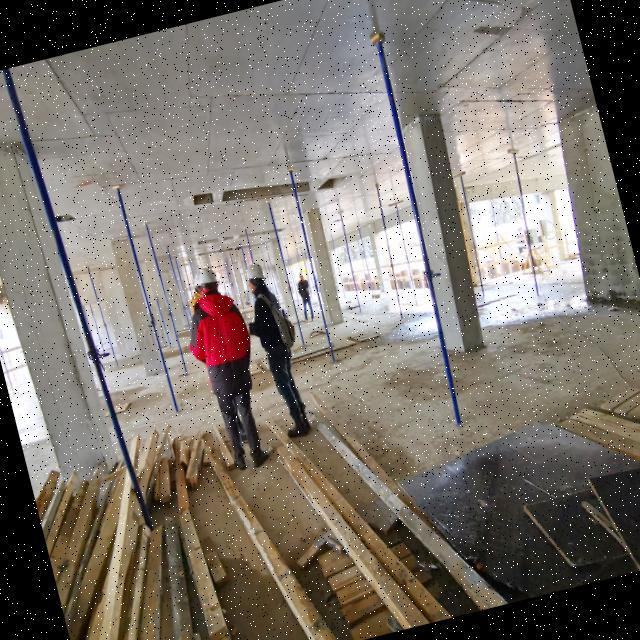Helmet: (244, 262, 270, 297), (298, 272, 306, 283)
